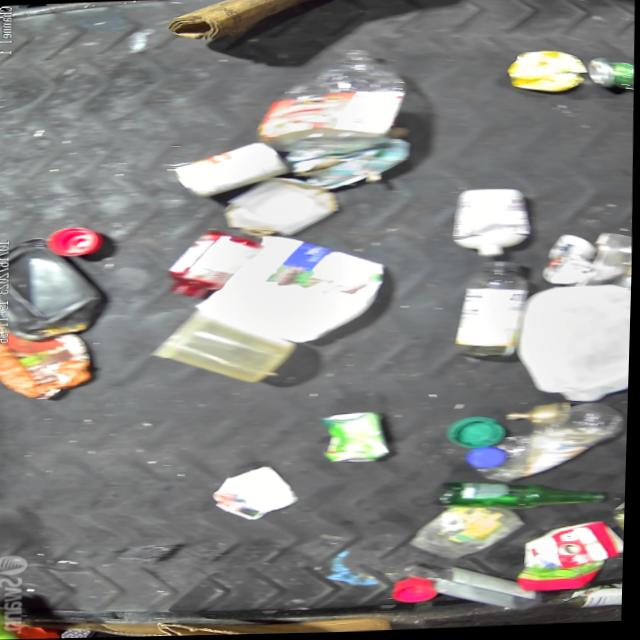can: (166, 141, 290, 200), (320, 411, 394, 466), (504, 50, 586, 97), (585, 58, 635, 96), (564, 582, 626, 610)
milk_jug: (507, 285, 633, 408)
plastic_bottle: (249, 50, 411, 158), (465, 404, 629, 487), (404, 560, 546, 618)
